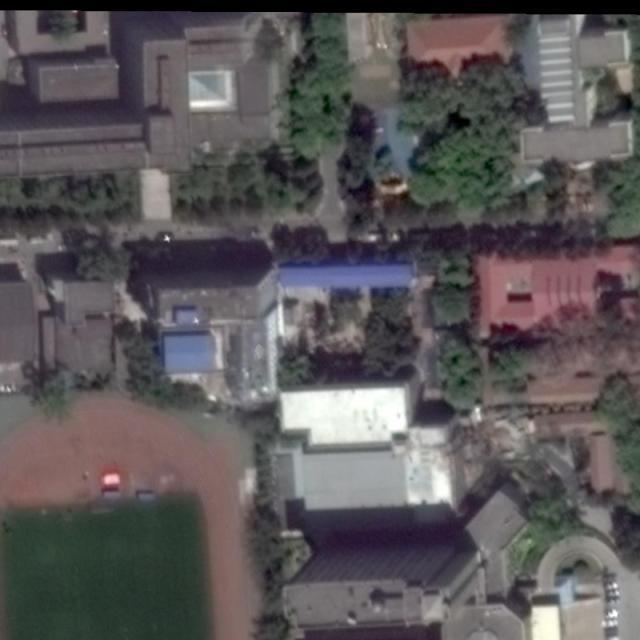vehicle: (602, 609, 622, 621), (606, 589, 622, 599), (605, 573, 618, 584), (604, 619, 618, 629), (605, 582, 619, 591), (606, 598, 620, 606), (604, 633, 619, 640)
